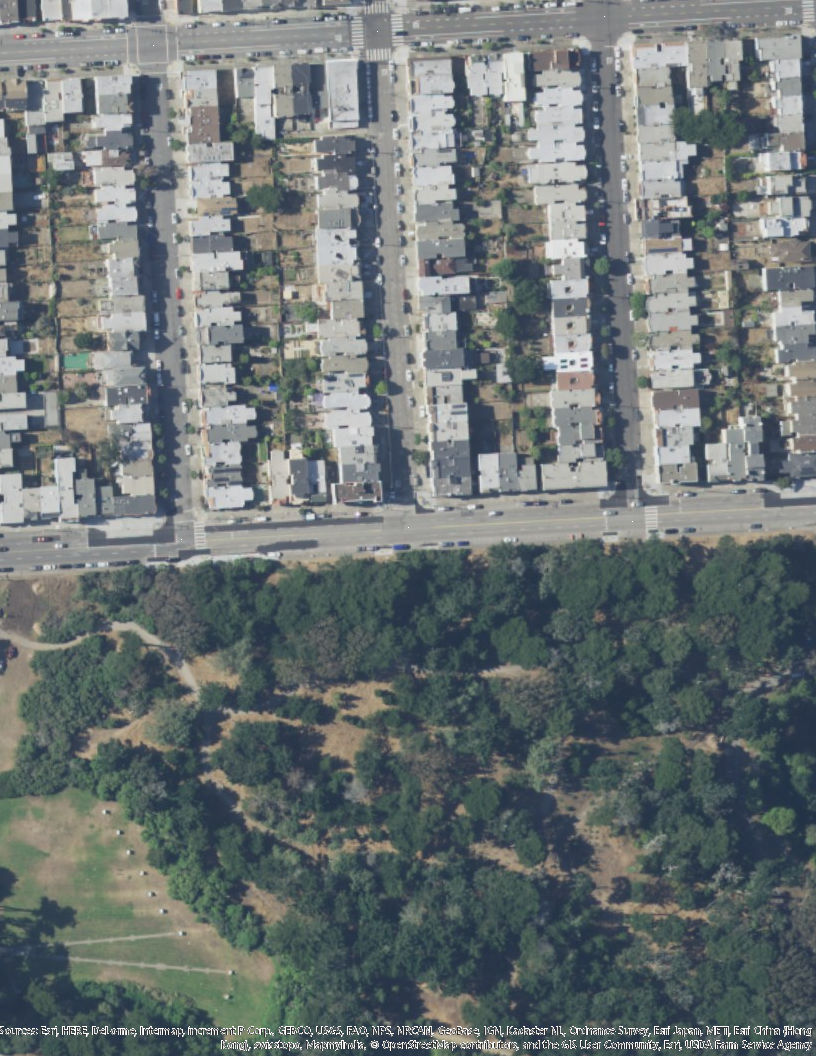zebracross: (349, 15, 365, 49), (390, 15, 406, 47), (193, 522, 208, 550), (365, 1, 391, 15), (366, 48, 392, 61), (646, 506, 659, 532)
